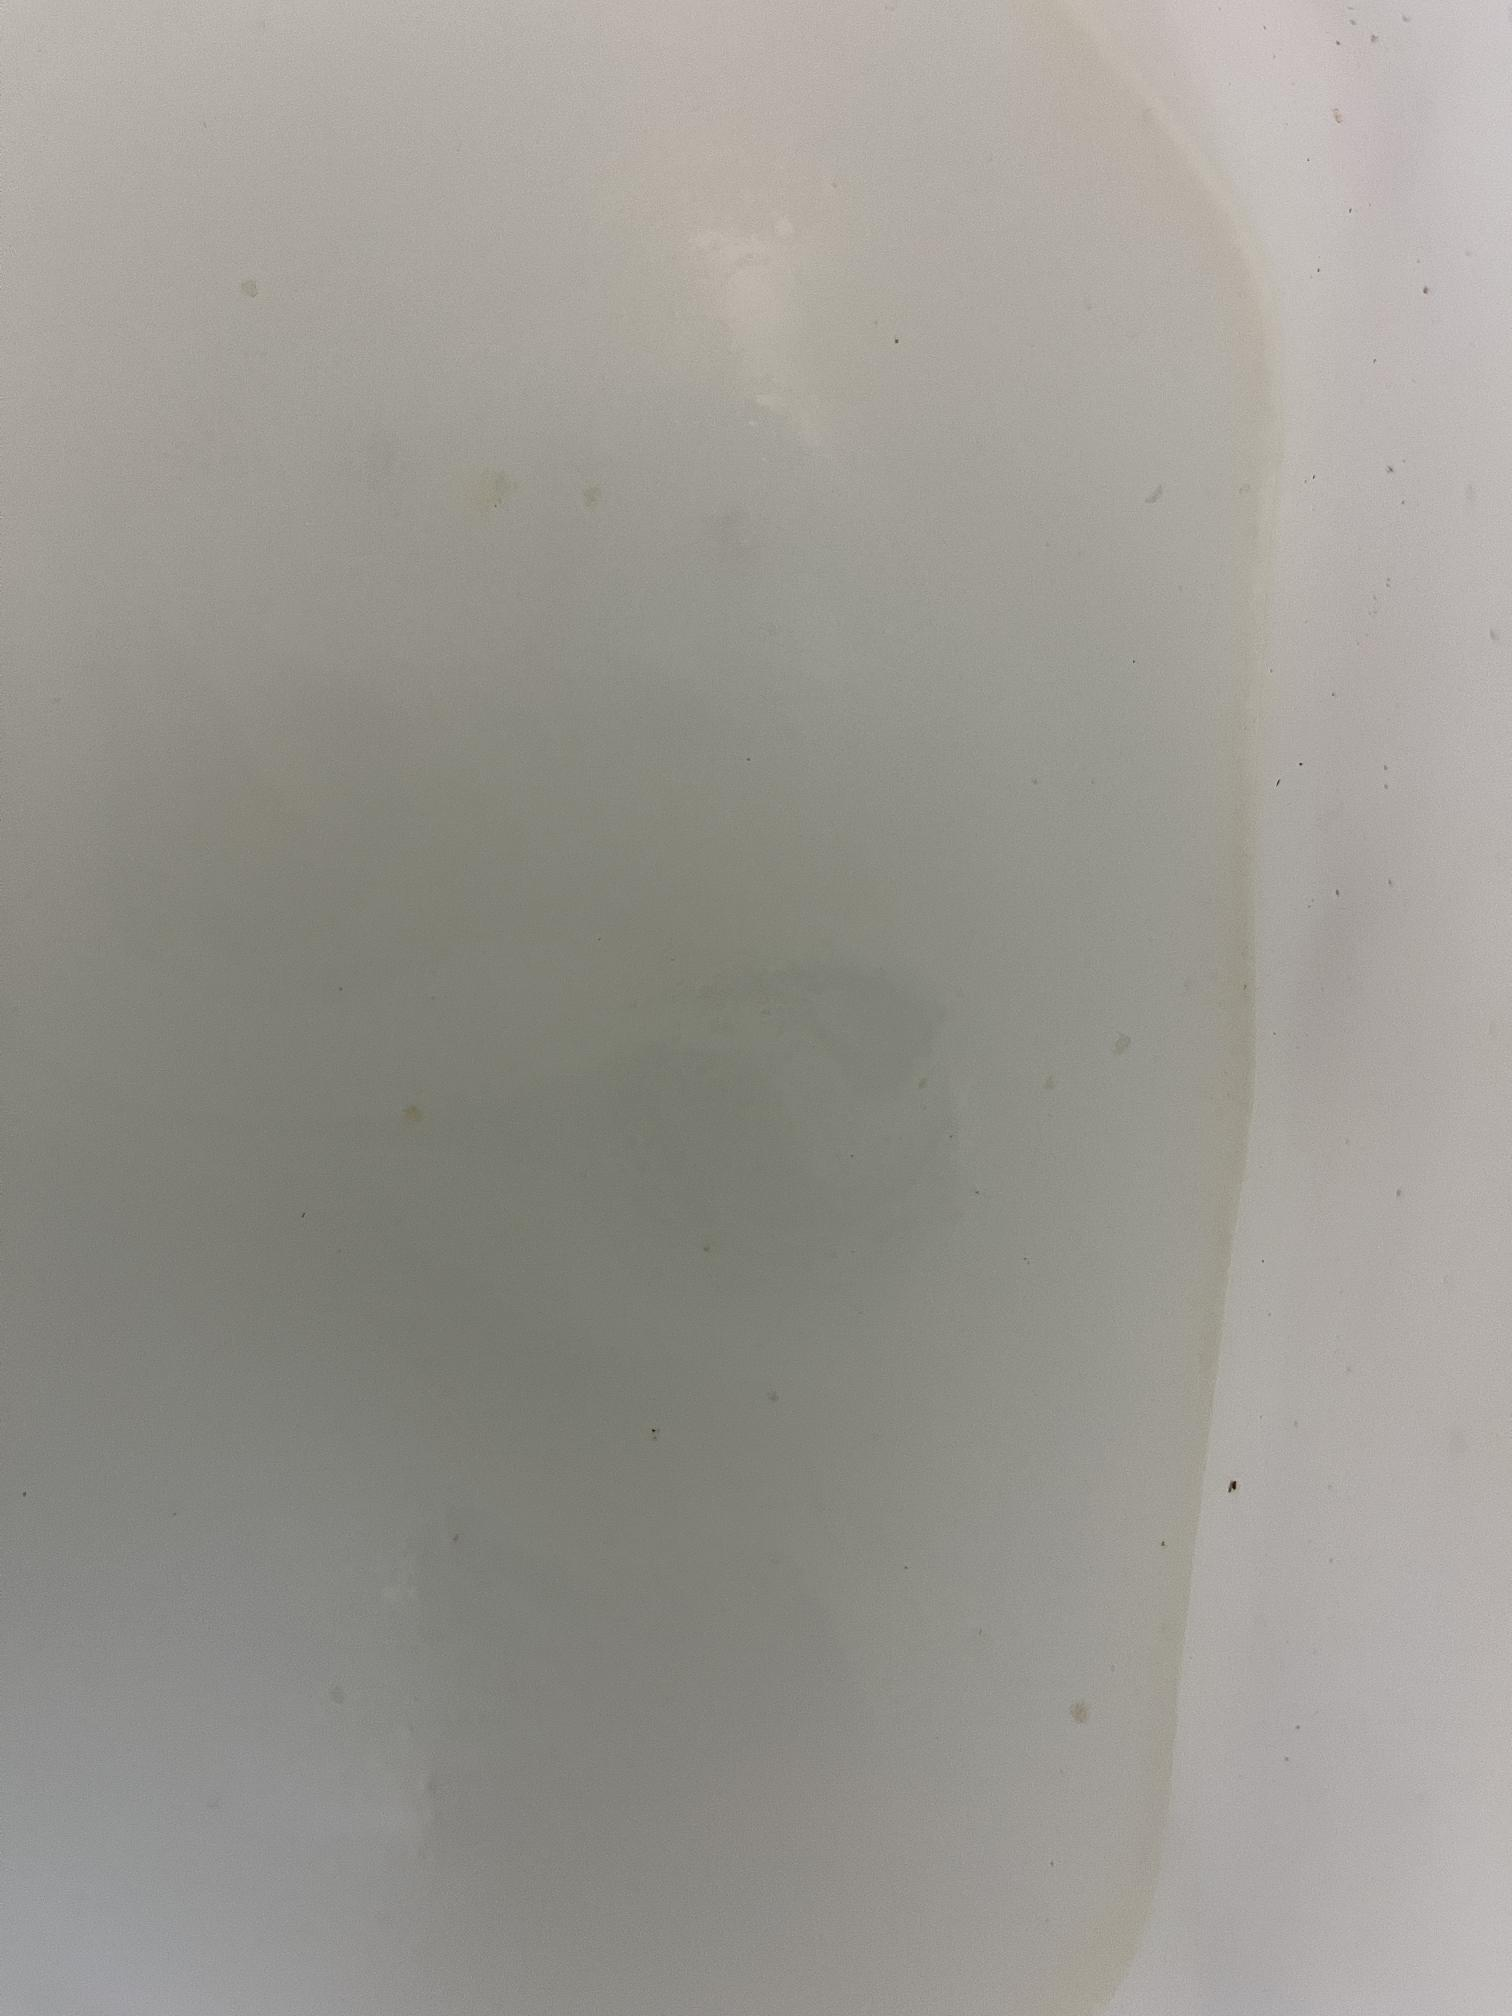Presenca de Oleo - - 10ml: (178, 281, 1334, 1854)
